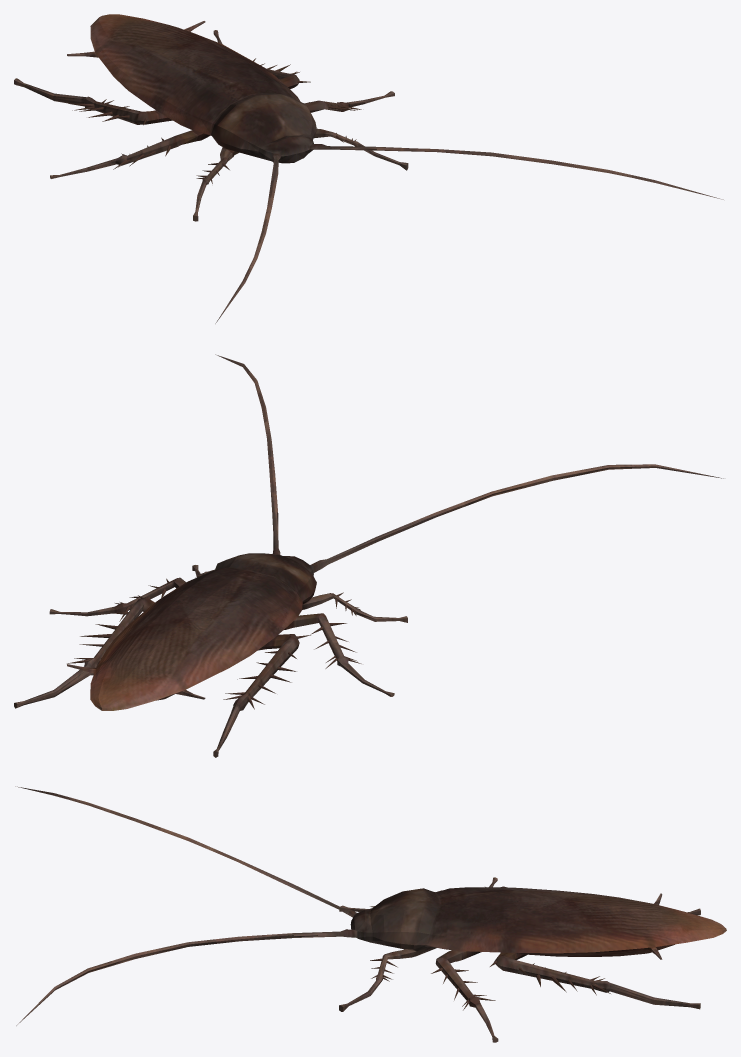
Rendered from coc.obj.
The picture shows the model from 3 angles, top to bottom: view 1: azimuth 30°, elevation 25°; view 2: azimuth 150°, elevation 25°; view 3: azimuth 270°, elevation 25°; orthographic projection. The views are drawn at different scales.
Parts seen in each view (by area): view 1: 0_-_MESH_ROOT_Untitled.001, 1_-_MESH_ROOT_Untitled; view 2: 0_-_MESH_ROOT_Untitled.001, 1_-_MESH_ROOT_Untitled; view 3: 0_-_MESH_ROOT_Untitled.001, 1_-_MESH_ROOT_Untitled.
Part boxes in pixels (box(x1,y1,x2,y2)): 0_-_MESH_ROOT_Untitled.001: box(14, 14, 408, 221); 1_-_MESH_ROOT_Untitled: box(68, 58, 723, 323); 0_-_MESH_ROOT_Untitled.001: box(14, 553, 407, 757); 1_-_MESH_ROOT_Untitled: box(67, 354, 723, 709); 0_-_MESH_ROOT_Untitled.001: box(339, 877, 726, 1042); 1_-_MESH_ROOT_Untitled: box(15, 786, 610, 1025).
Size of the model in its own units: 0.1315 by 0.0201 by 0.1637.
Materials: 1 (1 with a texture image).
